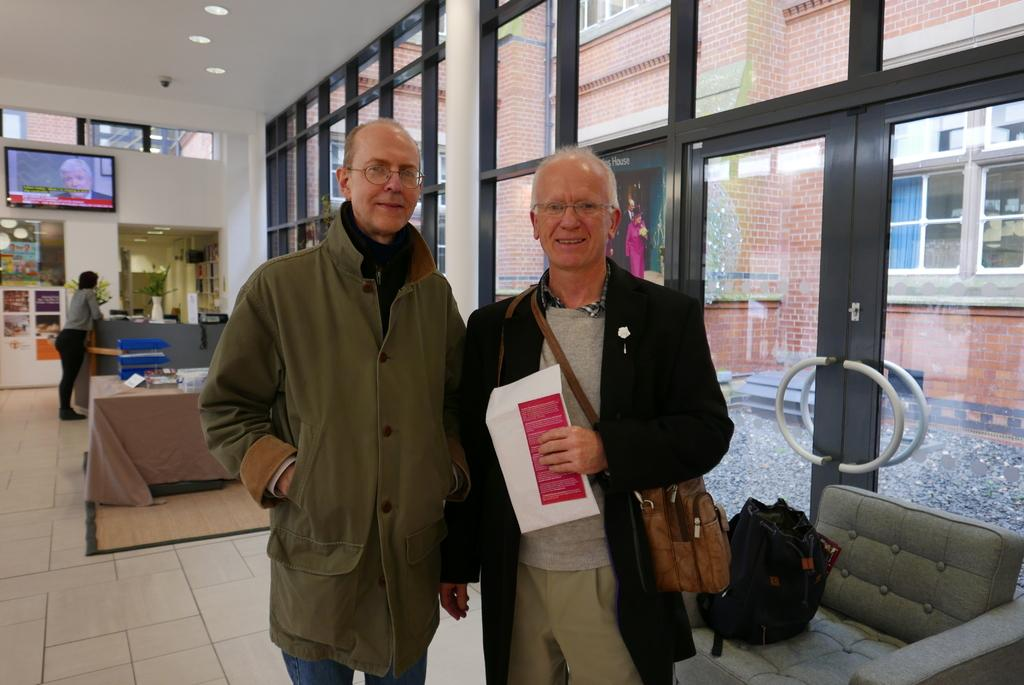Luggage-and-bags: (534, 277, 742, 601), (724, 493, 829, 629)
